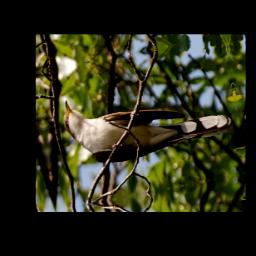Cuckoo: (60, 68, 236, 174)
